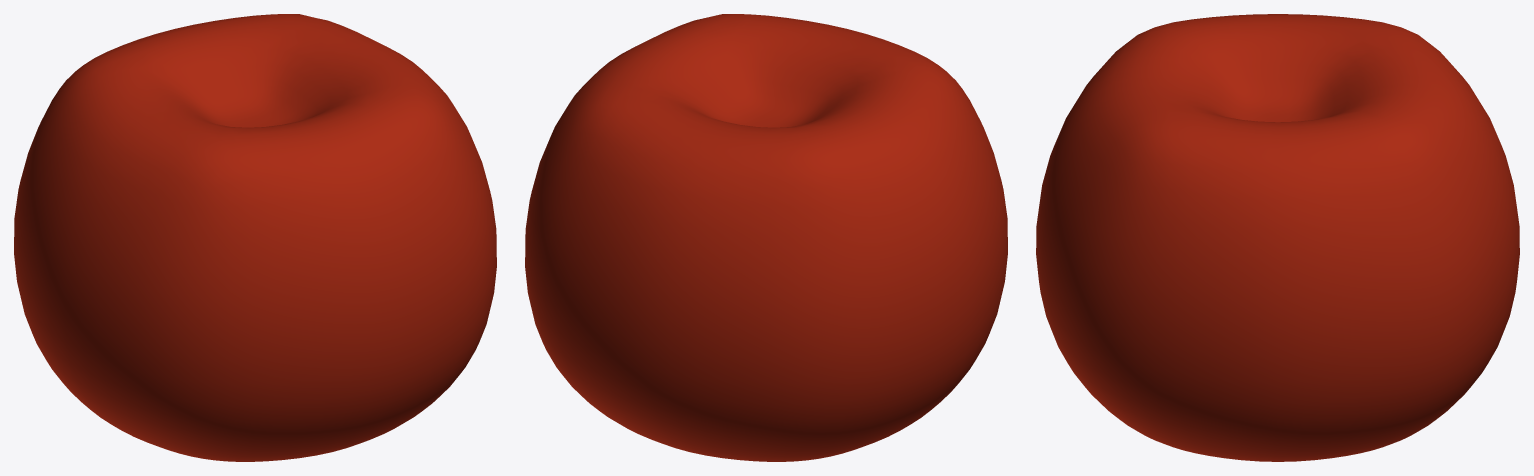
The model's file is tomaat.glb.
3 renders of one model, left to right at view 1: azimuth 30°, elevation 25°; view 2: azimuth 150°, elevation 25°; view 3: azimuth 270°, elevation 25°, orthographic.
Visible parts, largest first — view 1: Cube; view 2: Cube; view 3: Cube.
Boxes of the visible parts, x1,y1,x2,y2 form: Cube: (14,14,496,461); Cube: (525,14,1007,461); Cube: (1036,14,1519,461).
Size of the model in its own units: 3.42 by 2.69 by 3.42.
